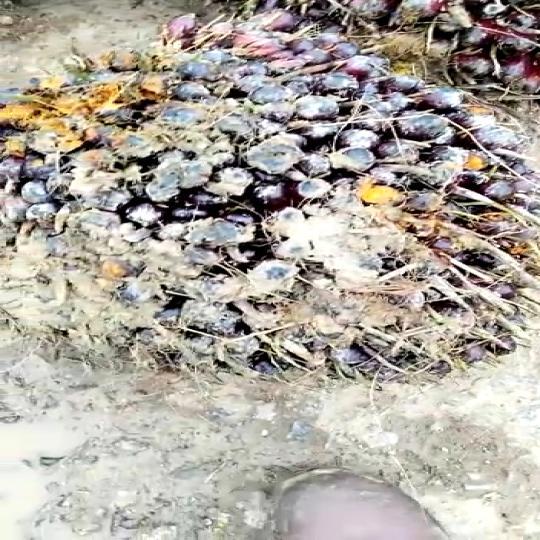kurang masak: (0, 13, 540, 386)
